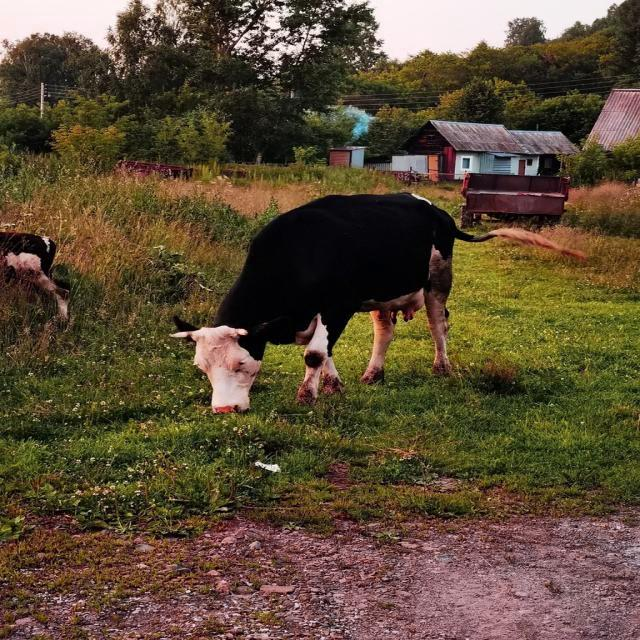cow: (174, 192, 576, 412)
